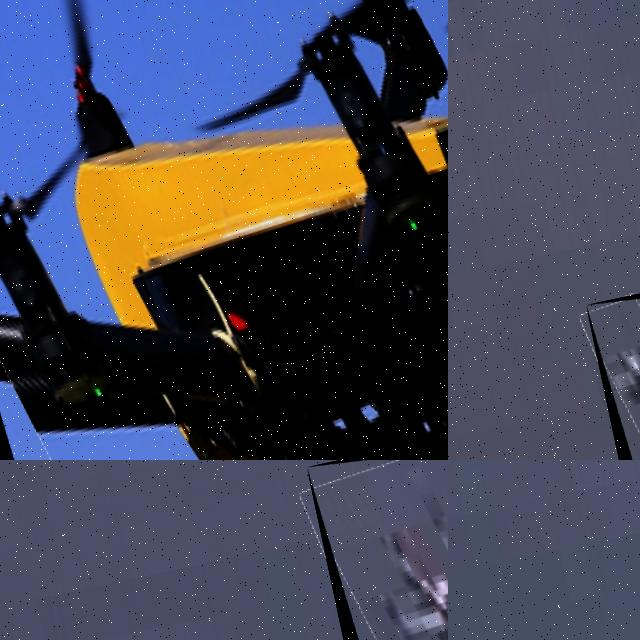drone: (0, 0, 448, 460), (307, 460, 448, 640), (585, 289, 640, 460)
